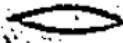Mouth: (5, 3, 123, 36)
